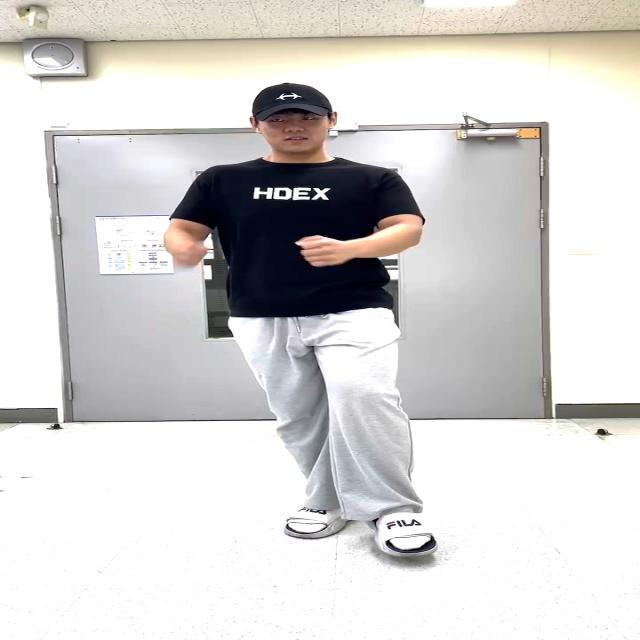leg: (321, 322, 435, 562)
